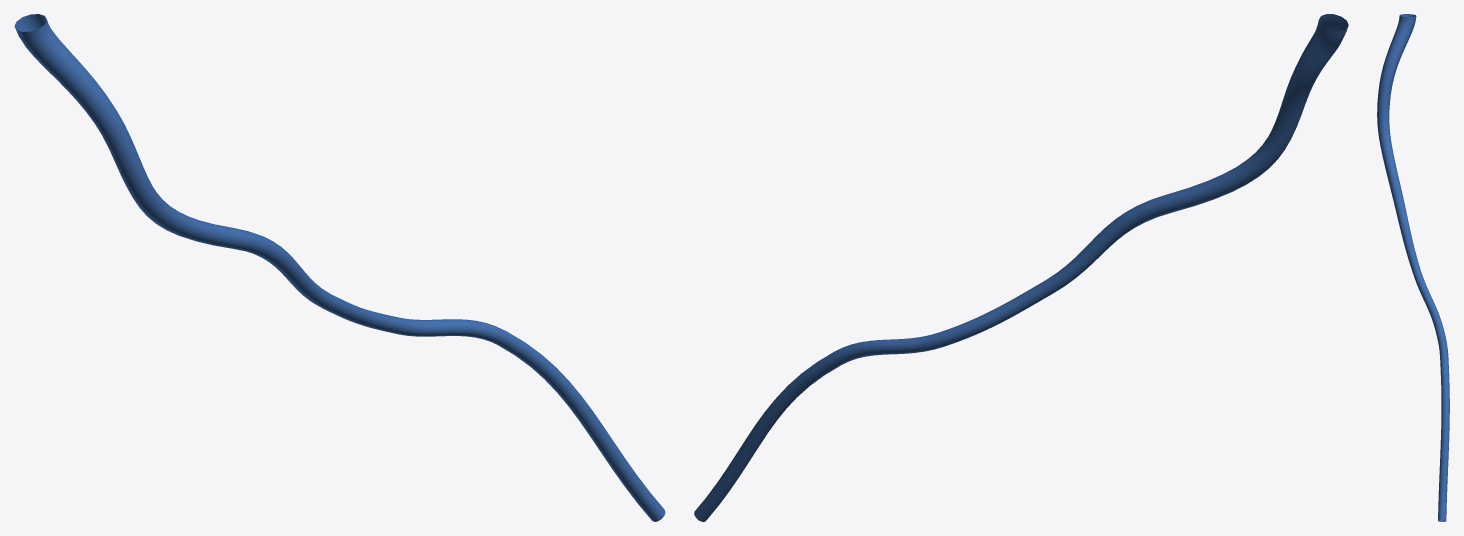
3 views of the same model, side by side, from view 1: azimuth 30°, elevation 25°; view 2: azimuth 150°, elevation 25°; view 3: azimuth 270°, elevation 25° (orthographic). The views are drawn at different scales.
Visible parts, largest first — view 1: 右侧岩上窦; view 2: 右侧岩上窦; view 3: 右侧岩上窦.
Boxes of the visible parts, box(x1,y1,x2,y2) form: 右侧岩上窦: box(14, 14, 665, 521); 右侧岩上窦: box(694, 14, 1348, 521); 右侧岩上窦: box(1377, 14, 1449, 521).
Bounding box in the file's own units: 0.0691 × 0.0666 × 0.0127.
